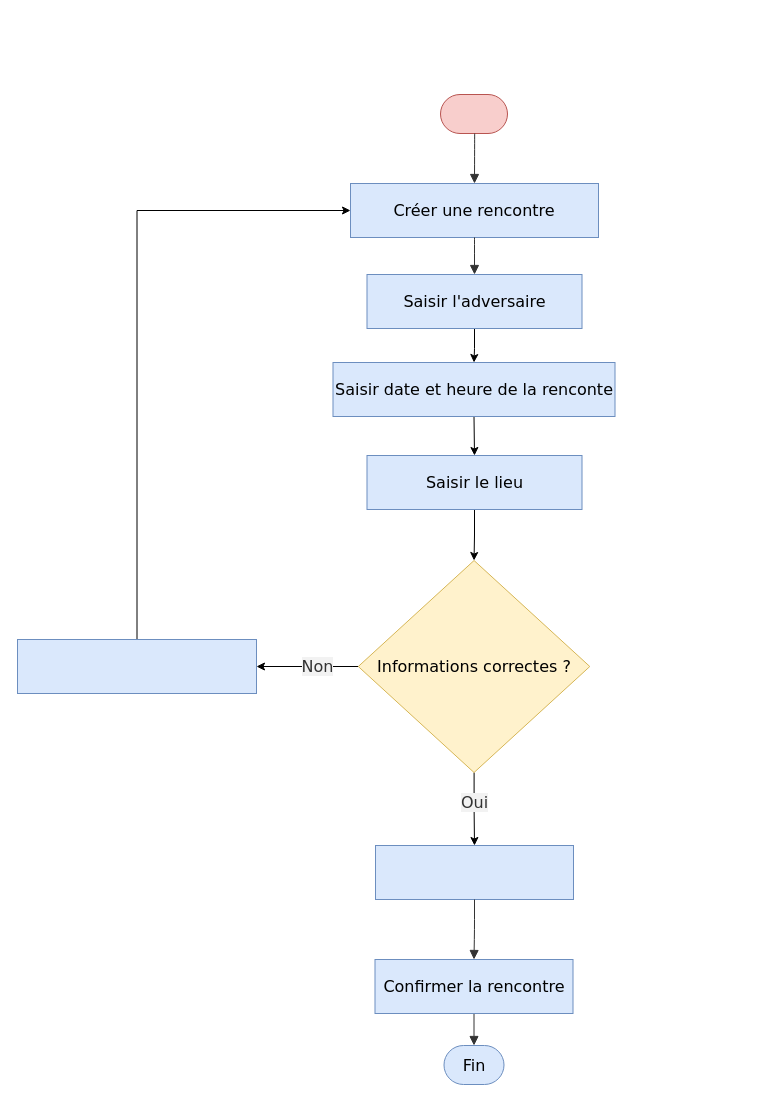
This 763x1102 diagram has some shape labels left out. Each missing label, with the centre of its shape:
"Début" belongs at point (474, 114).
"Enregistrer la rencontre" belongs at point (474, 872).
"Modifier les informations" belongs at point (136, 666).
